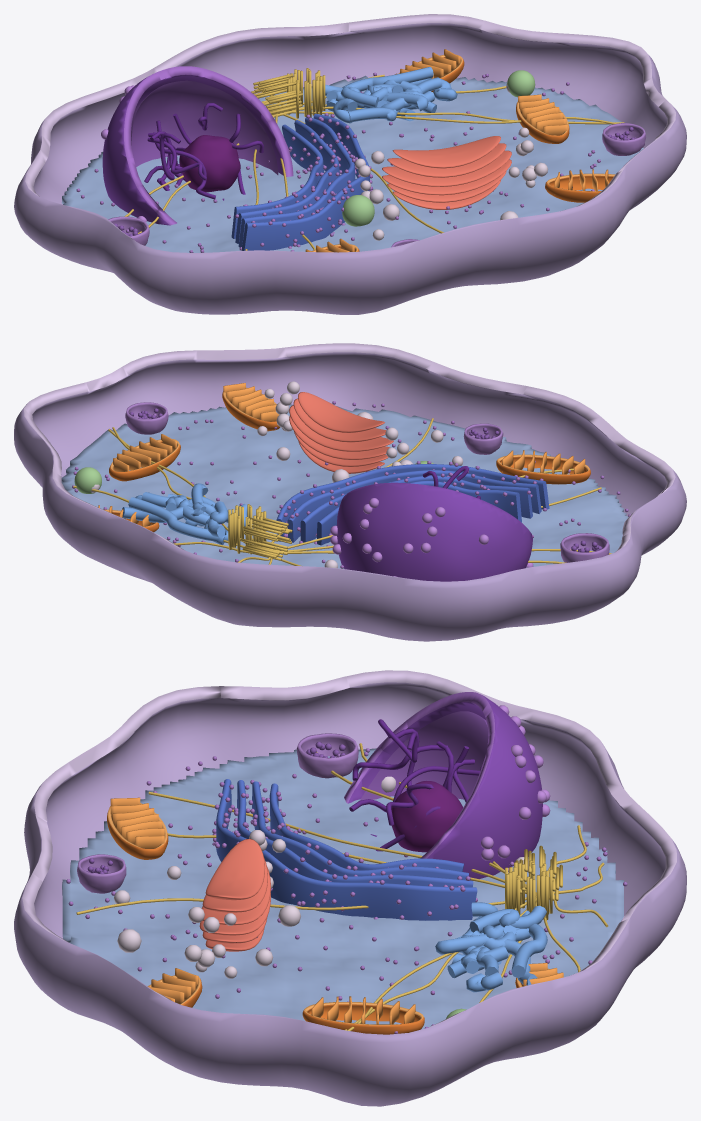
The model's file is animal.glb.
The picture shows the model from 3 angles, top to bottom: view 1: azimuth 30°, elevation 25°; view 2: azimuth 150°, elevation 25°; view 3: azimuth 270°, elevation 25°; orthographic projection. The views are drawn at different scales.
Visible parts, largest first — view 1: membrane, cytosol, rough-er, nucleus, nucleus_nucleoplasm, golgi, smooth-er, nucleus_chromatin, centrosome, nucleolus, cytoskeleton, rough-er_ribosomes (+10 smaller); view 2: membrane, cytosol, nucleus, rough-er, golgi, smooth-er, centrosome, cytoskeleton, mitochondrion.003, mitochondrion_cristae.001, nucleus_pores, mitochondrion_cristae.004 (+11 smaller); view 3: membrane, cytosol, rough-er, nucleus, smooth-er, golgi, nucleus_nucleoplasm, cytoskeleton, nucleus_chromatin, nucleolus, centrosome, mitochondrion.001 (+11 smaller).
Part boxes in pixels (x1,y1,x2,y2): membrane: (14,14,686,314); cytosol: (61,75,643,252); rough-er: (231,113,369,250); nucleus: (102,66,293,225); nucleus_nucleoplasm: (131,80,278,212); golgi: (382,136,511,209); smooth-er: (325,67,457,123); nucleus_chromatin: (144,103,263,200); centrosome: (251,68,325,118); nucleolus: (179,135,240,192); cytoskeleton: (124,74,624,250); rough-er_ribosomes: (235,113,373,250); membrane: (14,343,686,641); cytosol: (61,404,628,568); nucleus: (336,482,532,581); rough-er: (276,464,549,545); golgi: (289,392,393,473); smooth-er: (122,483,247,544); centrosome: (228,504,292,560); cytoskeleton: (73,418,611,566); mitochondrion.003: (496,454,590,484); mitochondrion_cristae.001: (113,434,176,471); nucleus_pores: (330,498,533,576); mitochondrion_cristae.004: (223,383,279,421); membrane: (14,670,686,1106); cytosol: (62,748,623,1029); rough-er: (216,779,477,920); nucleus: (344,692,542,880); smooth-er: (435,902,547,992); golgi: (199,838,270,951); nucleus_nucleoplasm: (360,711,488,800); cytoskeleton: (76,743,608,1030); nucleus_chromatin: (349,719,481,851); nucleolus: (391,781,462,852); centrosome: (505,845,562,919); mitochondrion.001: (302,1002,424,1034).
Size of the model in its own units: 8.65 by 2.34 by 6.55.
